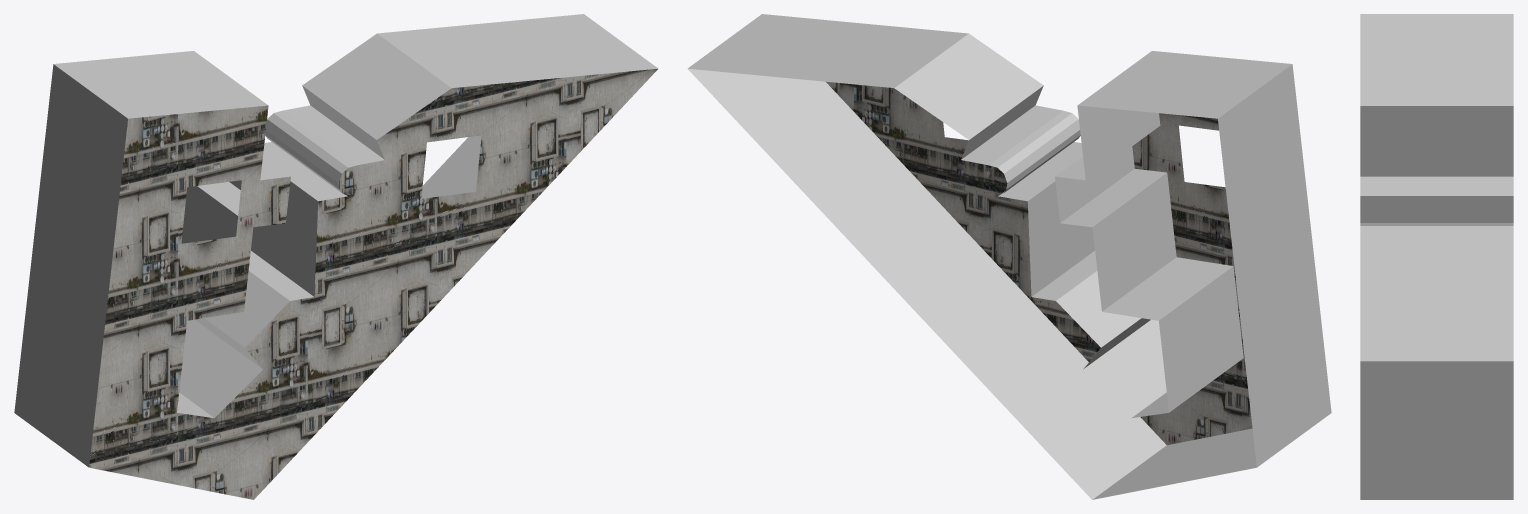
Rendered from geospecific_165.obj.
The picture shows the model from 3 angles, left to right: view 1: azimuth 30°, elevation 25°; view 2: azimuth 150°, elevation 25°; view 3: azimuth 270°, elevation 25°; orthographic projection. The views are drawn at different scales.
Visible parts, largest first — view 1: Building; view 2: Building; view 3: Building.
Boxes of the visible parts, box(x1,y1,x2,y2) form: Building: box(14, 14, 658, 499); Building: box(687, 14, 1331, 499); Building: box(1360, 14, 1513, 499).
Bounding box in the file's own units: 52.83 × 36.51 × 12.
